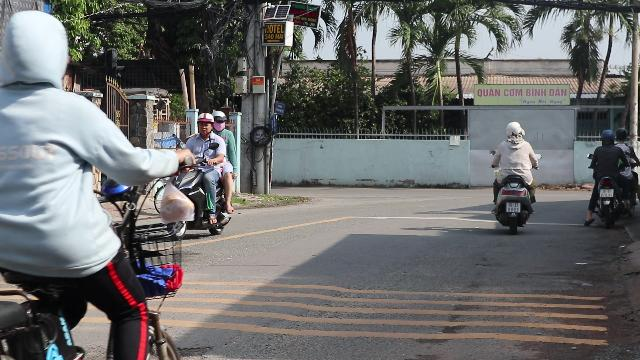helmet: (1, 10, 74, 96), (195, 112, 213, 136), (504, 121, 524, 142), (210, 110, 226, 130), (599, 129, 615, 145)
licenseplate: (508, 202, 520, 212), (600, 189, 614, 197)
motorcyclist: (1, 9, 196, 358), (173, 110, 237, 238), (487, 120, 538, 231), (584, 128, 638, 228)
